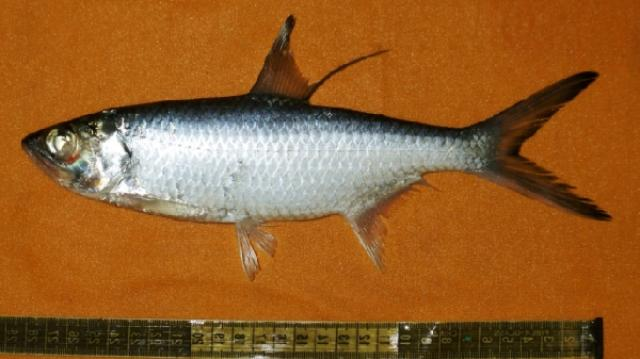Mulut: (15, 126, 57, 174)
Sirip Anal: (343, 168, 442, 278)
Sirip Dada: (113, 184, 209, 233)
Sirip Ekor: (478, 60, 618, 228)
Sirip Perut: (227, 214, 286, 282)
Sirip Punggung: (250, 11, 388, 116)
